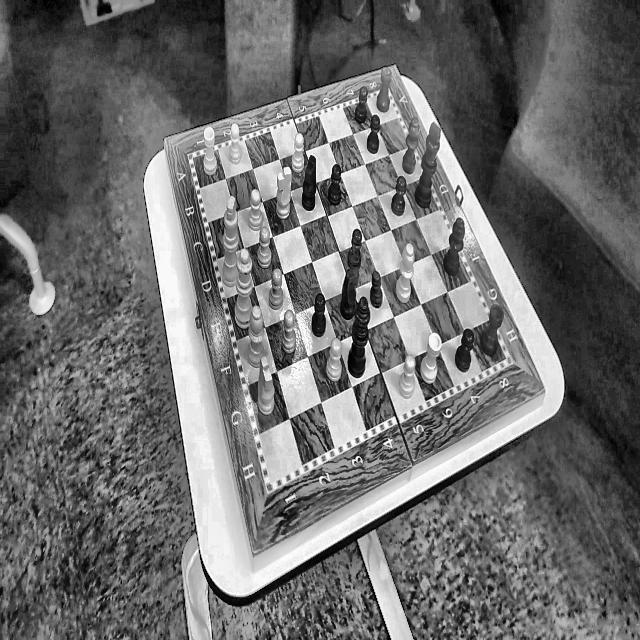chessboard: (193, 91, 505, 482)
